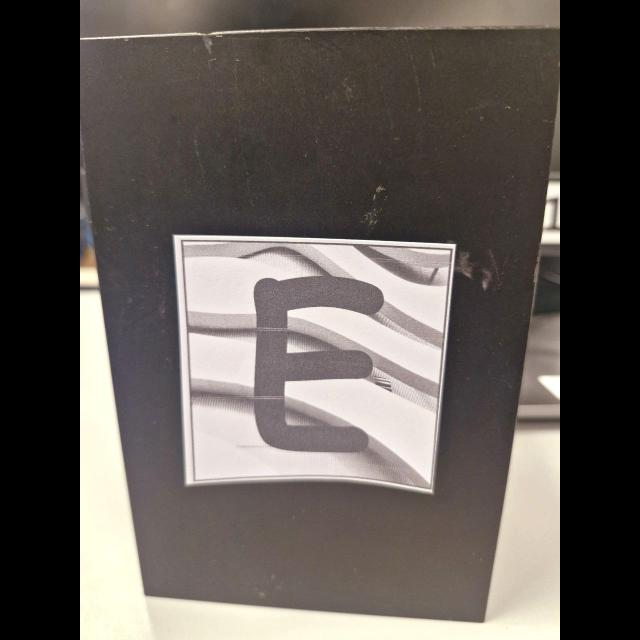E: (254, 276, 382, 452)
